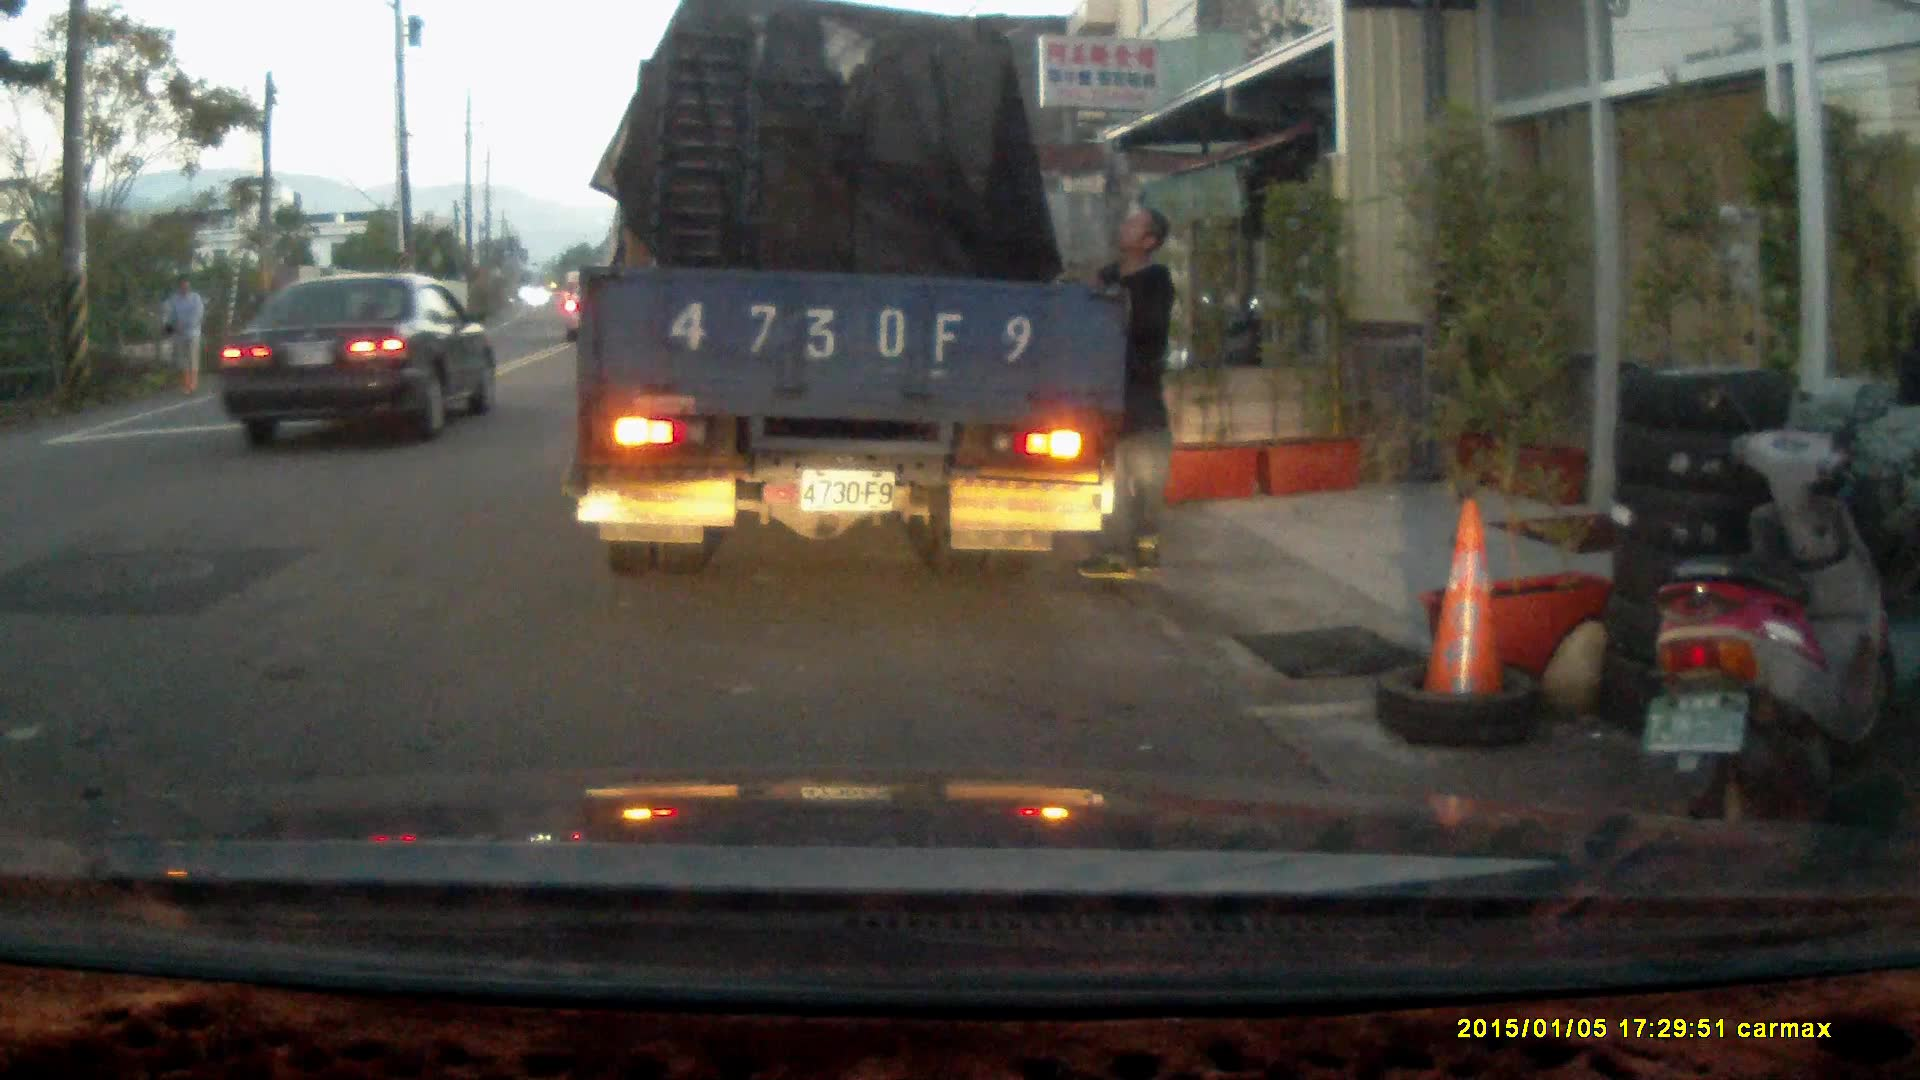pedestrian: (1061, 202, 1176, 581), (159, 271, 205, 399)
vehicle: (576, 23, 1119, 572), (211, 270, 498, 452)
